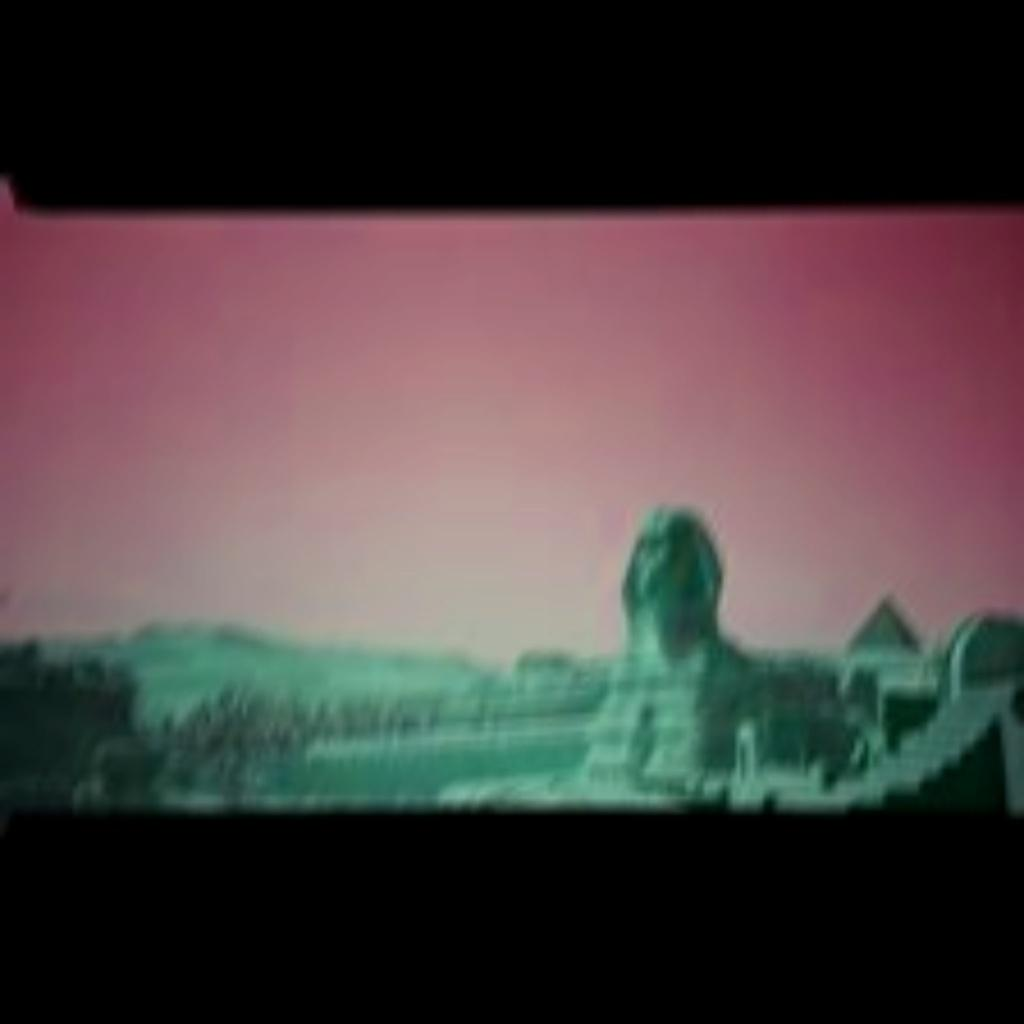Sphinx: (434, 503, 1020, 814)
